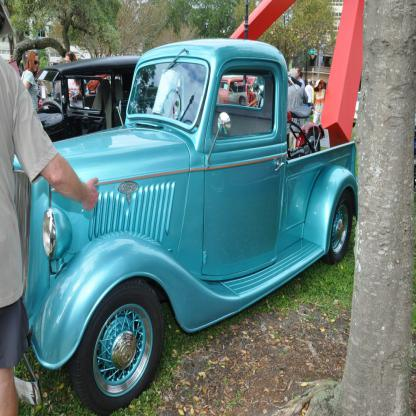Truck: (13, 37, 359, 415)
